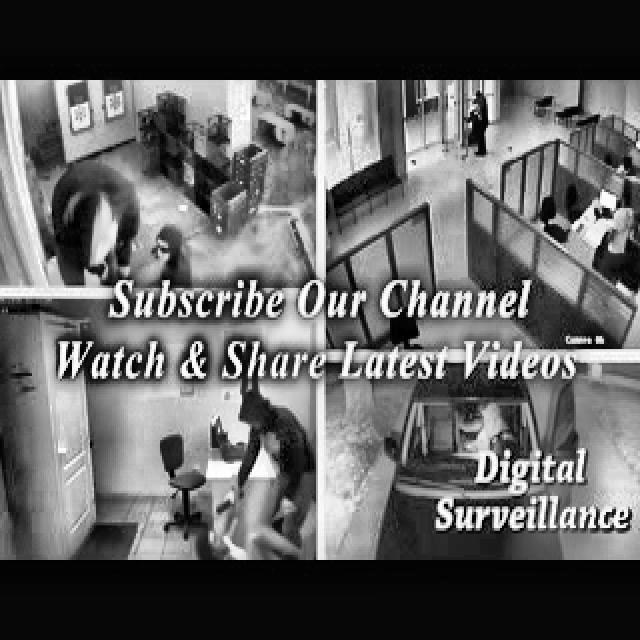burglary: (46, 154, 144, 288), (145, 220, 198, 288)
